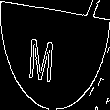M_N: (41, 27, 69, 83)
